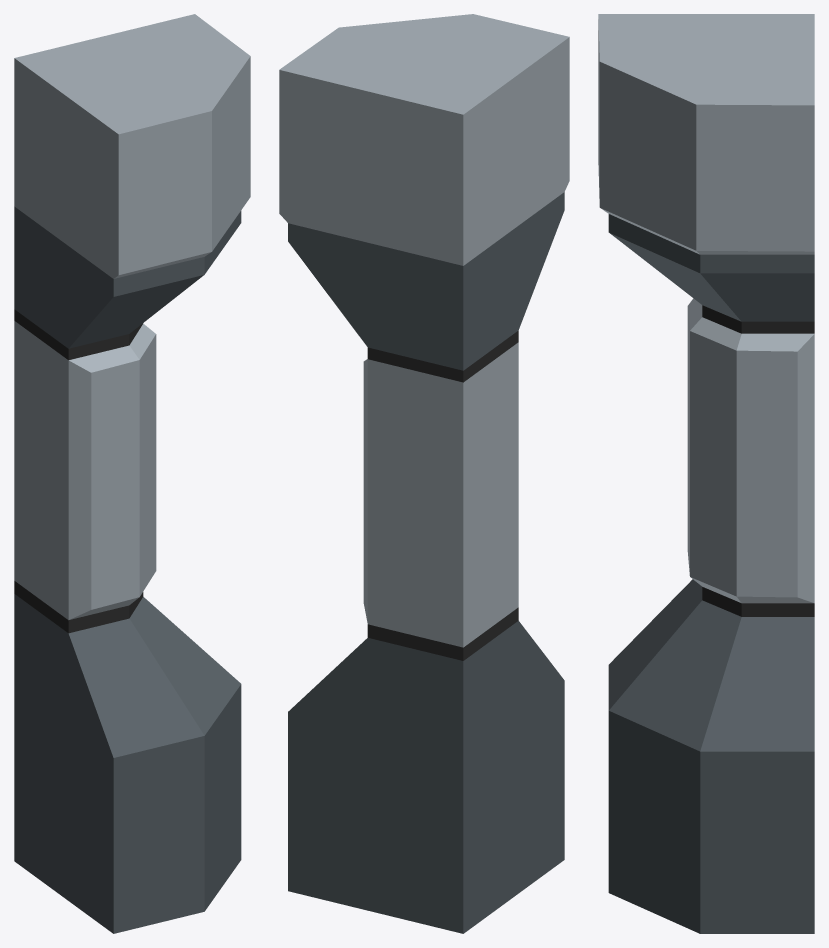
Rendered from SM_Bld_Wall_Corner_Pillar_01.fbx.
The picture shows the model from 3 angles, left to right: view 1: azimuth 30°, elevation 25°; view 2: azimuth 150°, elevation 25°; view 3: azimuth 270°, elevation 25°; orthographic projection. The views are drawn at different scales.
Visible parts, largest first — view 1: SM_Bld_Wall_Corner_Pillar_01; view 2: SM_Bld_Wall_Corner_Pillar_01; view 3: SM_Bld_Wall_Corner_Pillar_01.
Part boxes in pixels (x1,y1,x2,y2): SM_Bld_Wall_Corner_Pillar_01: [14, 14, 250, 933]; SM_Bld_Wall_Corner_Pillar_01: [279, 14, 569, 933]; SM_Bld_Wall_Corner_Pillar_01: [598, 14, 814, 933].
Bounding box in the file's own units: 120 × 509 × 120.
1 material, 1 textured.
